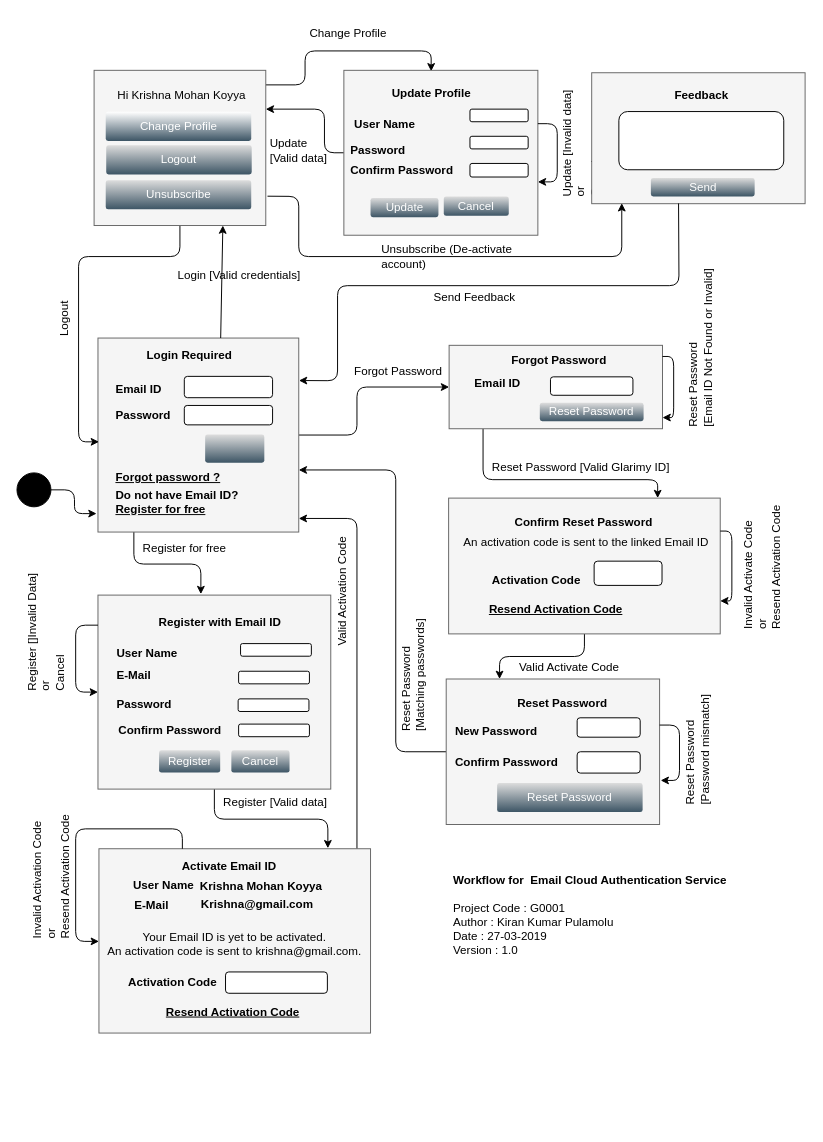
This 823x1142 diagram has some shape labels left out. Here are the shapes that lost their labels. From the top down, the box of each, then its label:
(204, 434, 264, 463): Login
(16, 472, 51, 507): START
